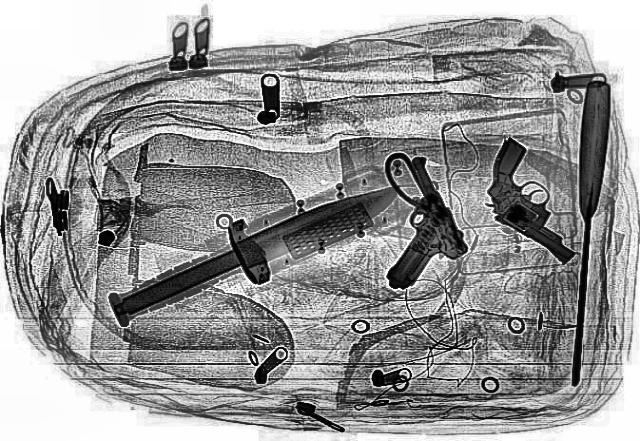Gun: (433, 134, 637, 264), (331, 154, 483, 290)
Knife: (106, 174, 410, 320), (562, 80, 612, 384)
